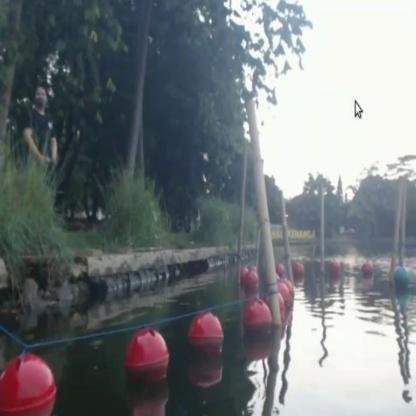green_buoy: (392, 266, 408, 298)
red_buoy: (2, 356, 53, 412), (127, 330, 168, 390), (187, 311, 222, 366), (245, 301, 271, 343), (282, 274, 294, 311), (242, 270, 258, 295), (360, 257, 374, 277), (294, 262, 304, 282), (281, 296, 285, 330)
